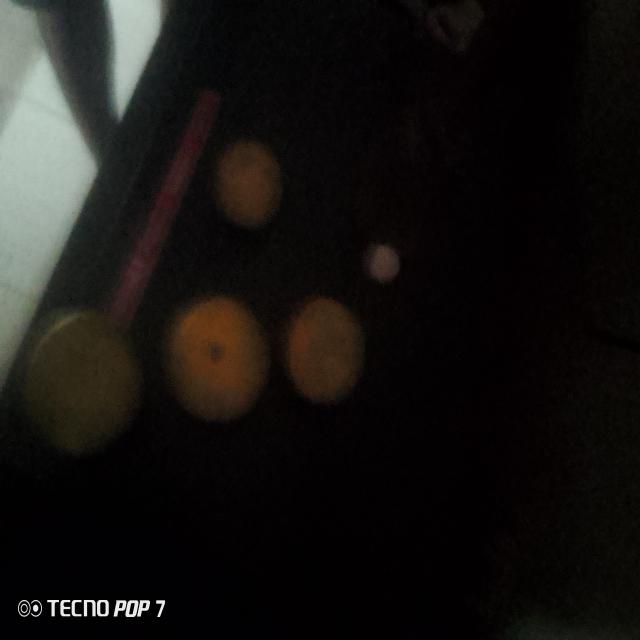Ripe orange: (30, 312, 145, 433), (170, 293, 258, 418), (278, 302, 361, 408), (220, 145, 266, 213)
